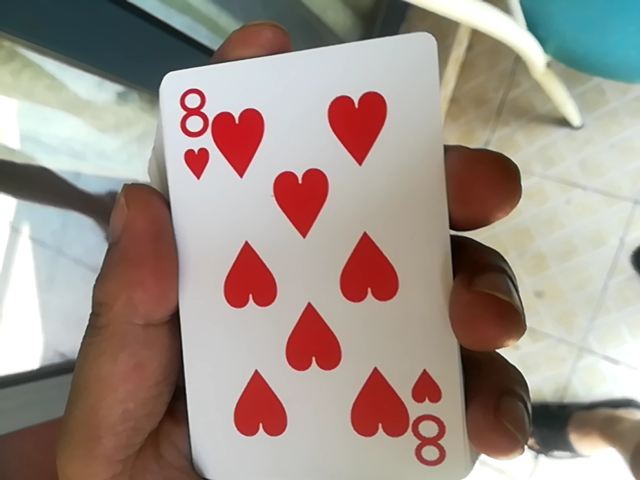hx 8: (148, 37, 465, 474)
